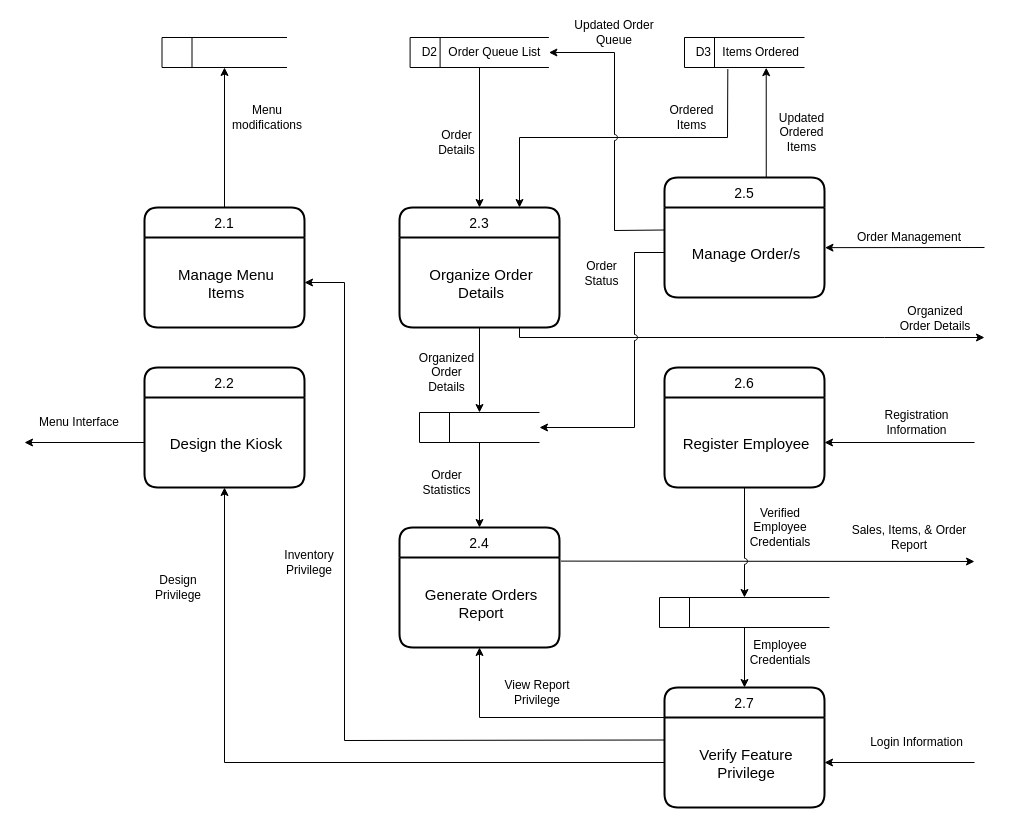
Image size: 1010x825. Some labels were removed from this diagram. The centre of each missing label's shape, as x and y in pixels:
"D1 Menu Items" belongs at pixel 224 52.
"D4 Order Statistics" belongs at pixel 479 427.
"D5 Registered Employees" belongs at pixel 744 612.
